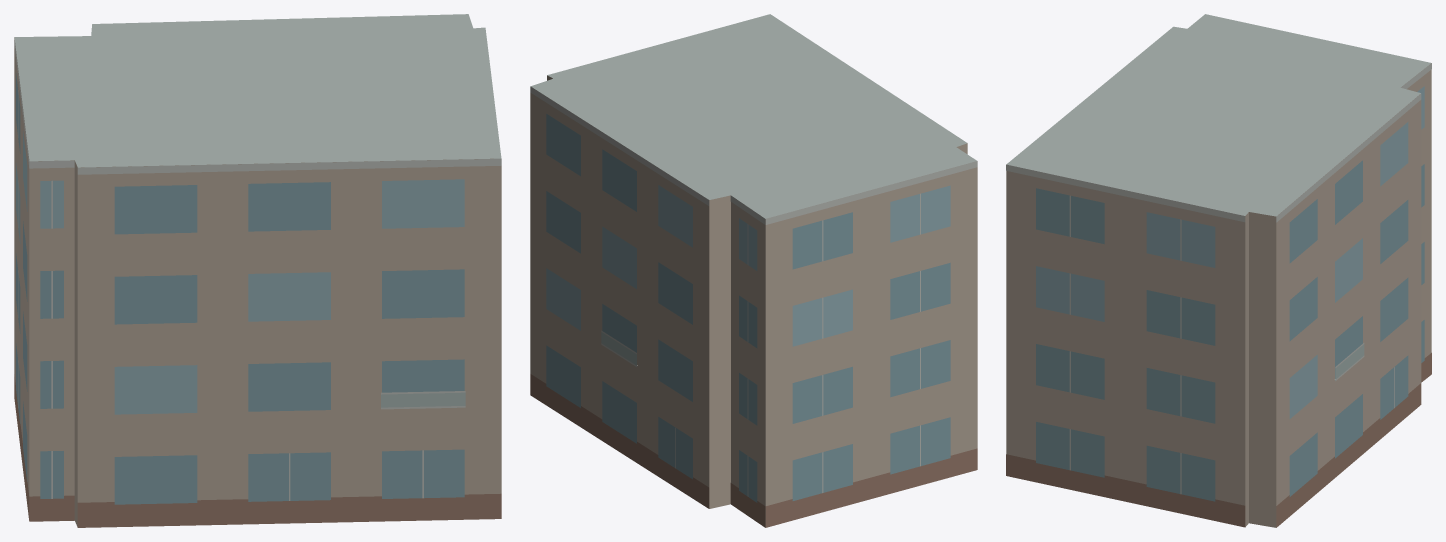
The model's file is survey-upis-32658454.glb.
3 renders of one model, left to right at view 1: azimuth 30°, elevation 25°; view 2: azimuth 150°, elevation 25°; view 3: azimuth 270°, elevation 25°, orthographic. The views are drawn at different scales.
Visible parts, largest first — view 1: survey-upis-32658454.tmp; view 2: survey-upis-32658454.tmp; view 3: survey-upis-32658454.tmp.
Boxes of the visible parts, x1,y1,x2,y2 form: survey-upis-32658454.tmp: (14,14,501,527); survey-upis-32658454.tmp: (530,14,977,527); survey-upis-32658454.tmp: (1006,14,1431,527).
Bounding box in the file's own units: 16.88 × 12.1 × 15.
